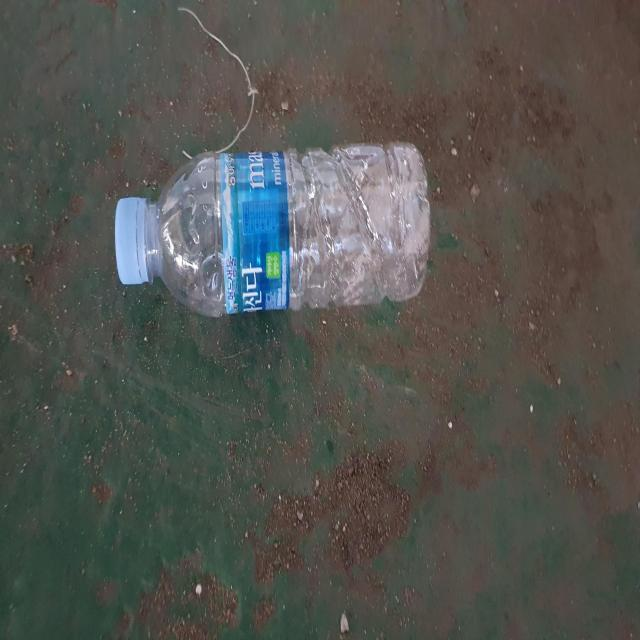plastic_bottle: (114, 144, 430, 317)
